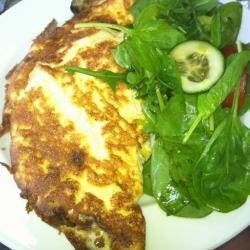omelette: (14, 4, 146, 247)
salad: (127, 4, 250, 223)
